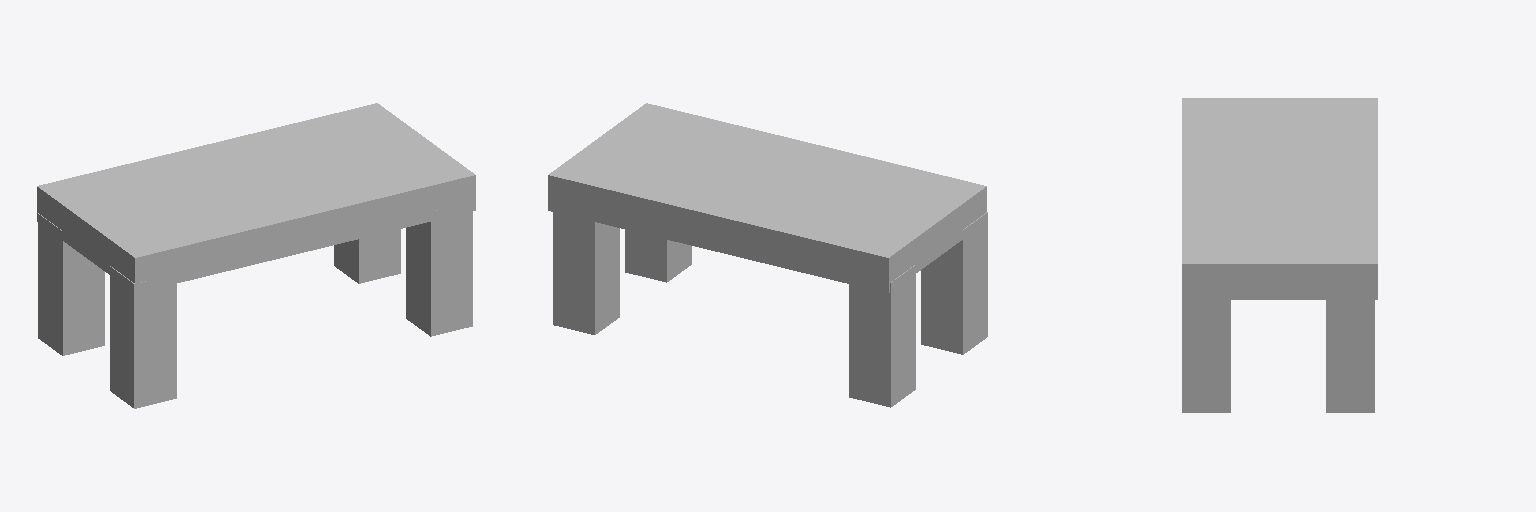
The model's file is table.obj.
3 renders of one model, left to right at view 1: azimuth 30°, elevation 25°; view 2: azimuth 150°, elevation 25°; view 3: azimuth 270°, elevation 25°, orthographic.
Parts seen in each view (by area): view 1: Table1; view 2: Table1; view 3: Table1.
Part boxes in pixels (left/top/right/bottom): Table1: left=37, top=103, right=475, bottom=408; Table1: left=548, top=103, right=987, bottom=407; Table1: left=1182, top=98, right=1377, bottom=412.
Size of the model in its own units: 4.01 by 1.69 by 2.